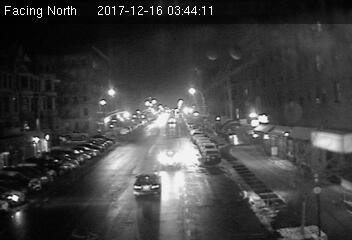car: (133, 173, 162, 195), (204, 149, 219, 162)
